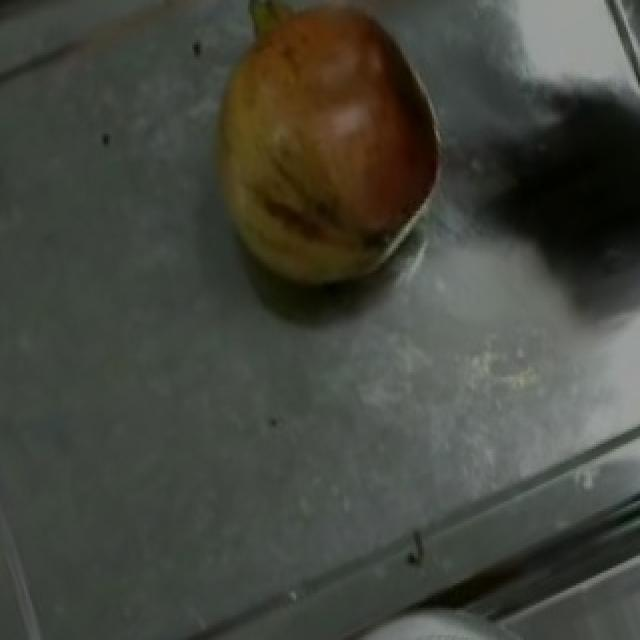fruit: (176, 18, 466, 312)
